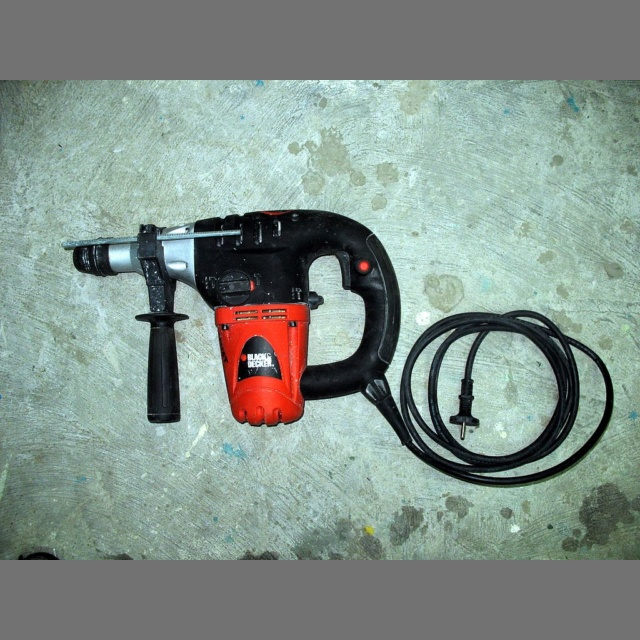drill: (76, 211, 405, 427)
